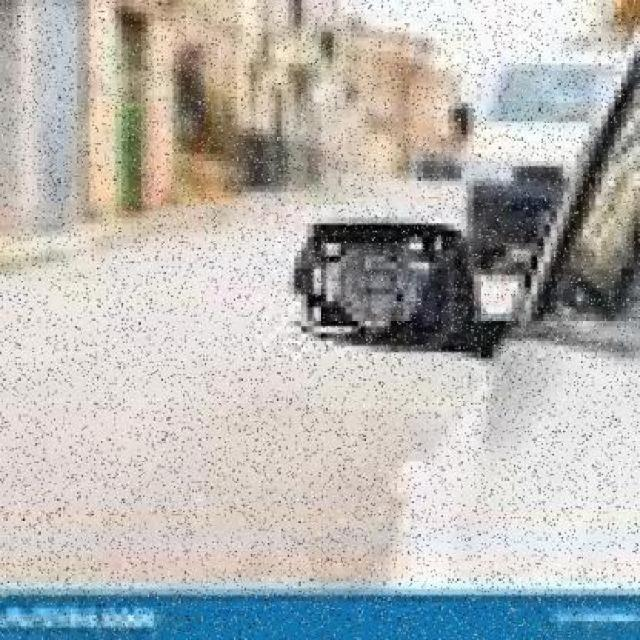Sidemirror-Damage: (276, 217, 487, 353)
